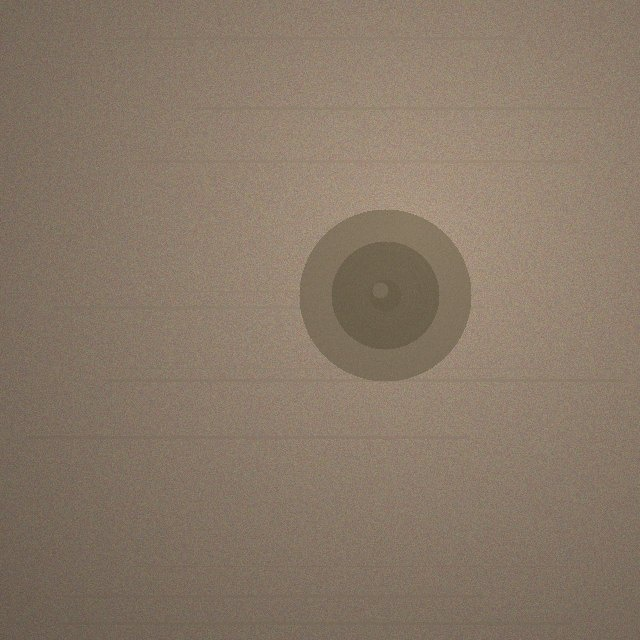good: (299, 209, 471, 381)
